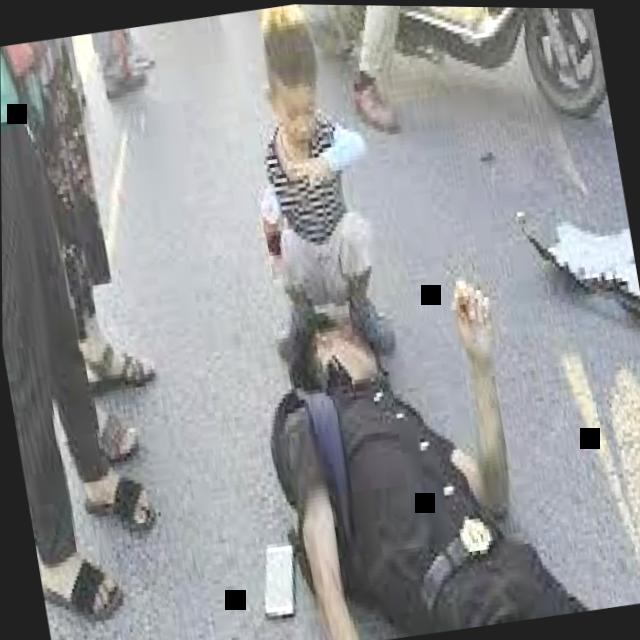Fall-Detected: (234, 210, 640, 640)
